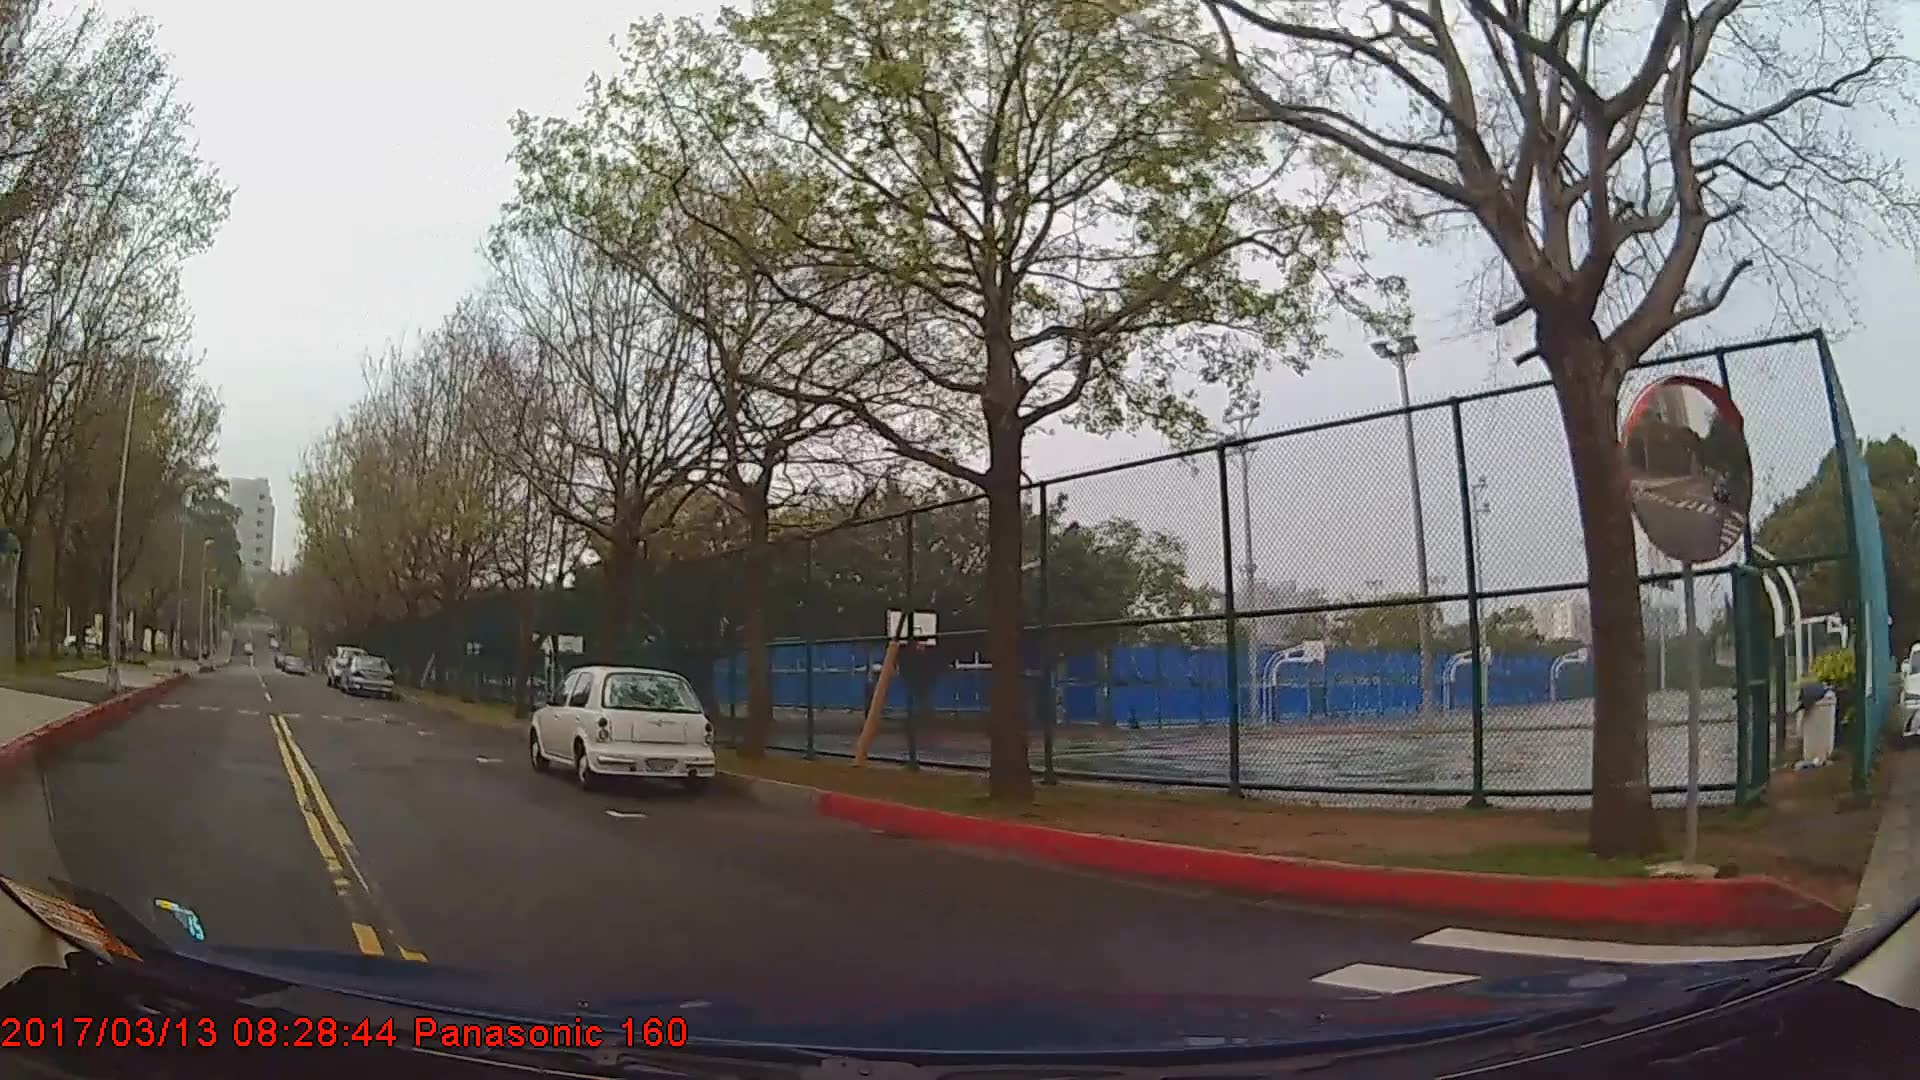vehicle: (529, 665, 716, 789), (339, 651, 396, 695)
